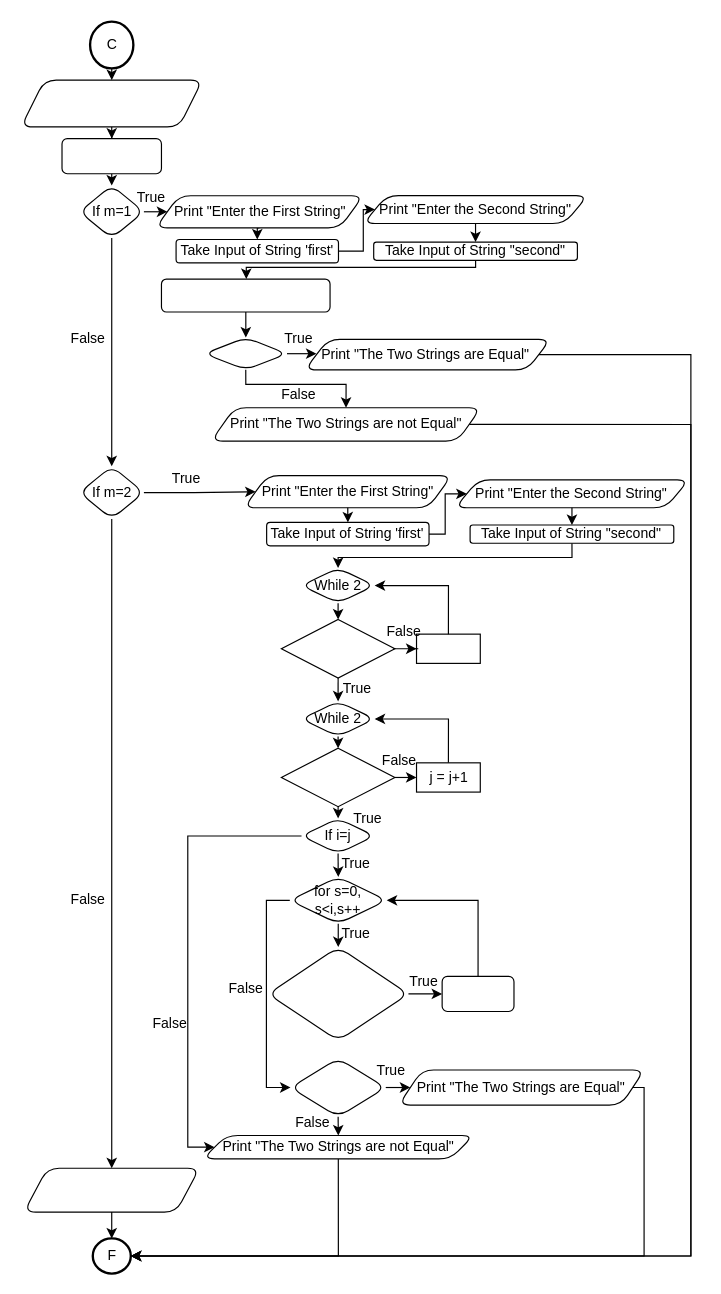
The diagram is 721 pixels wide and 1294 high, and some of its shapes have lost their labels. The centre of each missing label's shape, as x and y in pixels:
Enter: 1.Using Library 2.Without Library: (x=111, y=103)
i = i+1: (x=447, y=648)
i = strcmp (first,second): (x=245, y=295)
if first[i]='\0': (x=337, y=648)
if first[j]='\0': (x=337, y=777)
If first[s]=second[s]: (x=337, y=993)
If i=0: (x=245, y=353)
If r=0: (x=337, y=1087)
Print "Enter Valid Input": (x=111, y=1189)
r = r+1: (x=477, y=993)
Take Input 'm': (x=111, y=155)
